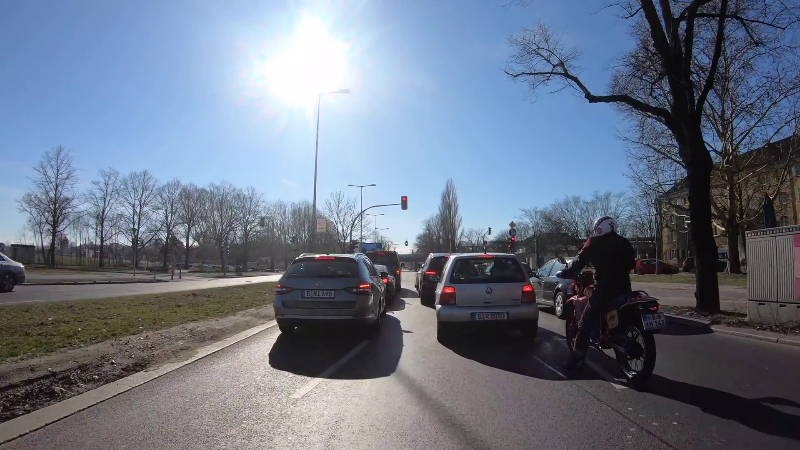Plate: (470, 310, 509, 321), (300, 288, 337, 299)
